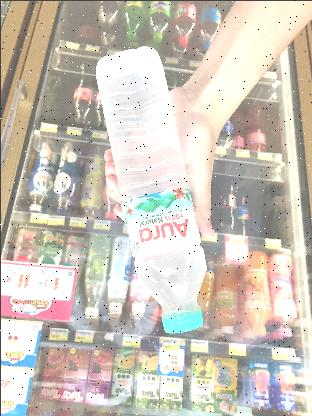Plastic Bottle: (95, 45, 205, 333)
